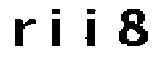8: (114, 7, 150, 48)
i: (45, 5, 70, 52), (82, 7, 104, 52)
r: (11, 15, 37, 52)
